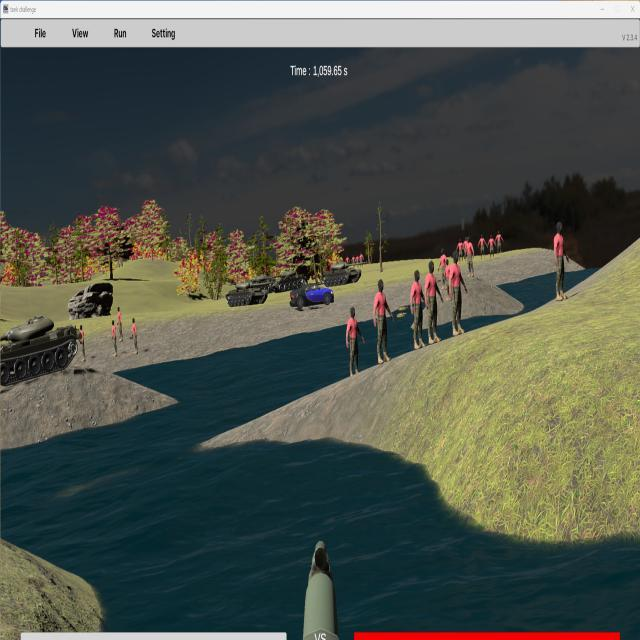Human: (374, 278, 394, 365), (449, 250, 467, 339), (425, 260, 443, 348), (410, 268, 428, 350), (346, 306, 365, 383), (555, 221, 569, 302), (438, 247, 452, 308), (463, 234, 476, 279)
Tank: (0, 315, 79, 388), (224, 280, 271, 307), (321, 261, 367, 286), (262, 269, 309, 293)
car: (290, 282, 335, 309)
